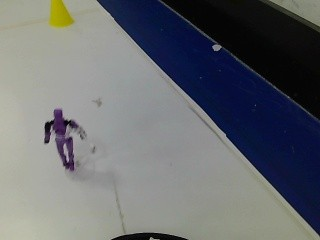cone: (45, 0, 74, 35)
pedestrian: (36, 99, 93, 171)
